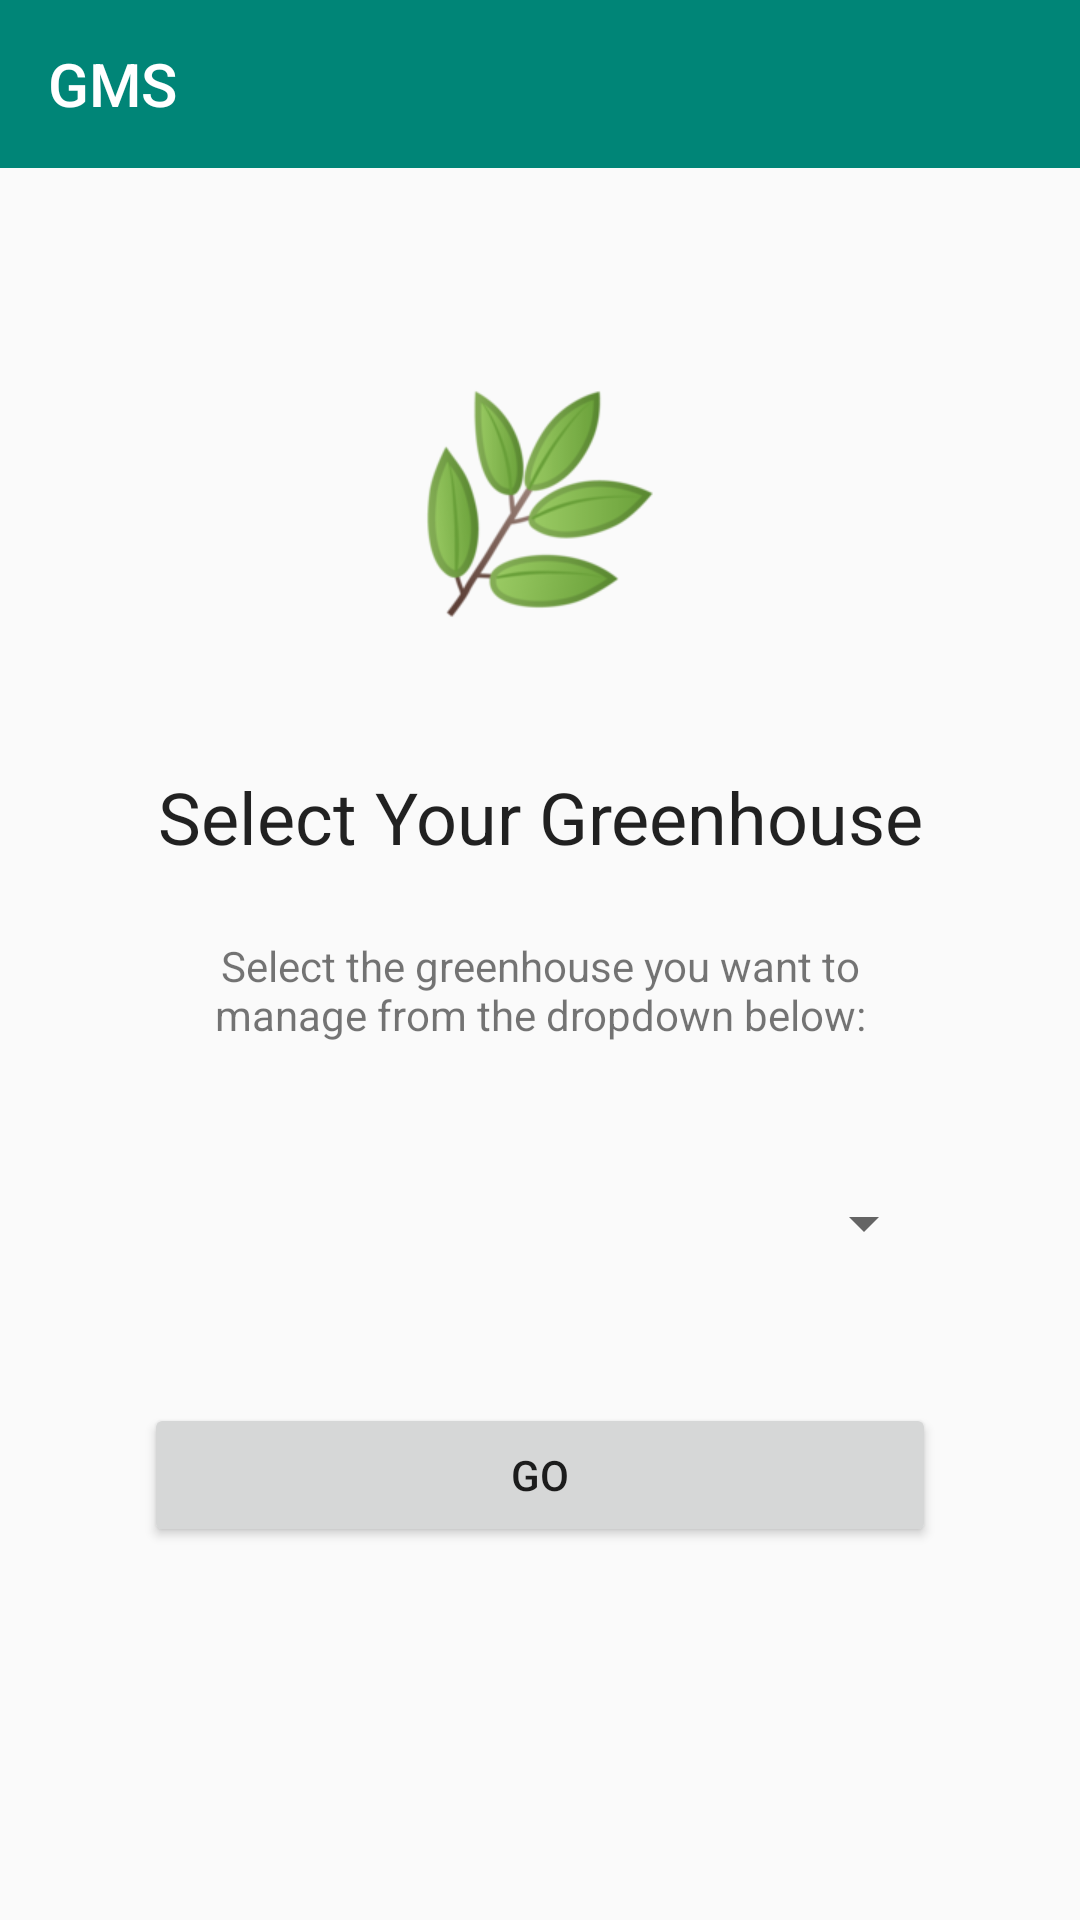

Icon click points for this 1080px x 1920px phone screenshot, format point (x, y):
herb: point (540, 504)
